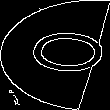O_E: (5, 29, 105, 81)
